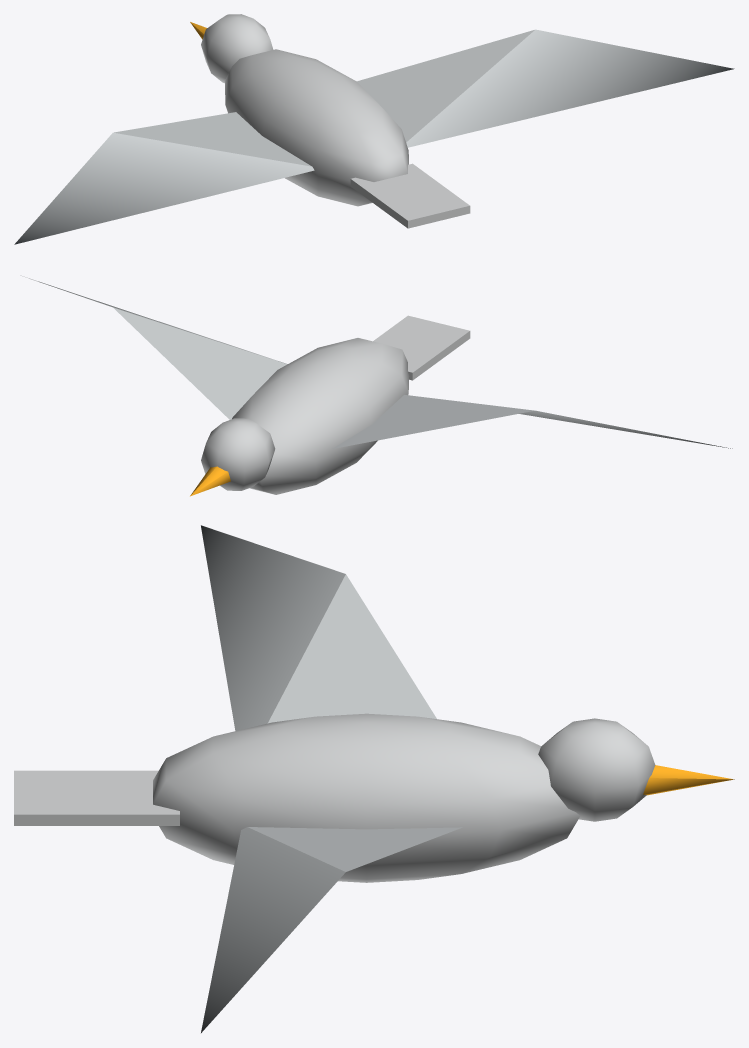
File: gull.glb
3 renders of one model, top to bottom at view 1: azimuth 30°, elevation 25°; view 2: azimuth 150°, elevation 25°; view 3: azimuth 270°, elevation 25°, orthographic. The views are drawn at different scales.
Visible parts, largest first — view 1: gull feathers; view 2: gull feathers, gull bill; view 3: gull feathers, gull bill.
Boxes of the visible parts, x1,y1,x2,y2 form: gull feathers: (14, 14, 734, 244); gull feathers: (29, 278, 732, 494); gull bill: (190, 466, 230, 496); gull feathers: (14, 525, 655, 1032); gull bill: (643, 765, 734, 795).
Bounding box in the file's own units: 1.16 × 0.16 × 0.695.
